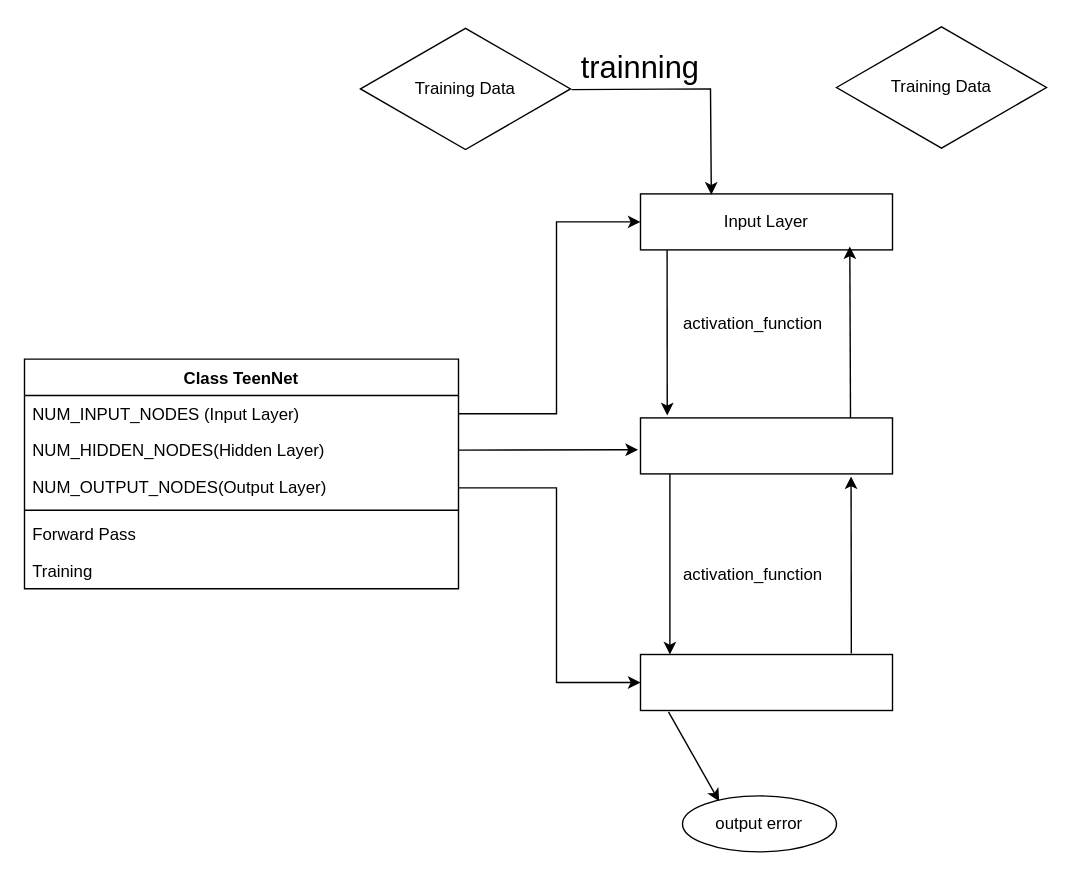
Image size: 1071x876. Some labels were removed from this diagram. The centre of each missing label's shape, as x and y in pixels:
Hidden Layer: (x=765, y=445)
Output Layer: (x=765, y=681)
